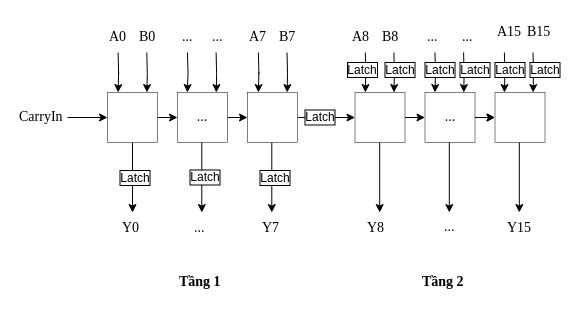
This 577x314 diagram has some shape labels left out. Here are the shapes that lost their labels. From the top down, the centre of each, then its label:
At pixel 132 117: "FA0".
At pixel 272 117: "FA7".
At pixel 379 117: "FA8".
At pixel 519 117: "FA15".
